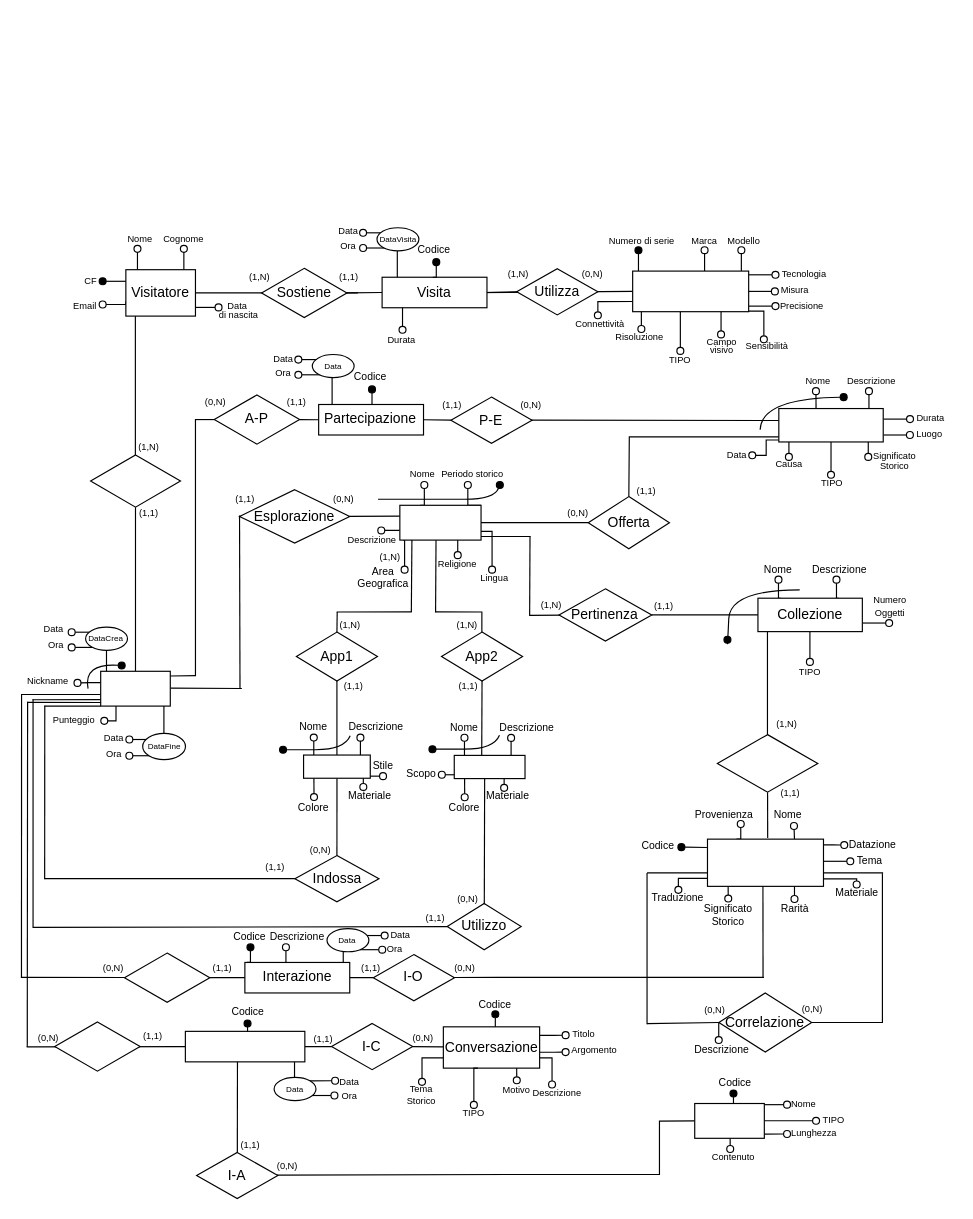
This 973x1219 diagram has some shape labels left out. The shapes that lost their labels are listed below. From the top down, each one's centre as x and y in pixels, then its label:
At (x=690, y=291): "Oggetti Informatici".
At (x=830, y=424): "Esperienza".
At (x=134, y=480): "Creazione".
At (x=440, y=522): "Civiltà".
At (x=135, y=688): "Avatar".
At (x=336, y=766): "Abito".
At (x=489, y=766): "Accessorio".
At (x=767, y=762): "Contenimento".
At (x=764, y=862): "Oggetto".
At (x=166, y=977): "A-I".
At (x=97, y=1046): "A-Int".
At (x=244, y=1046): "InterazioneAvatar".
At (x=729, y=1120): "Azione".
